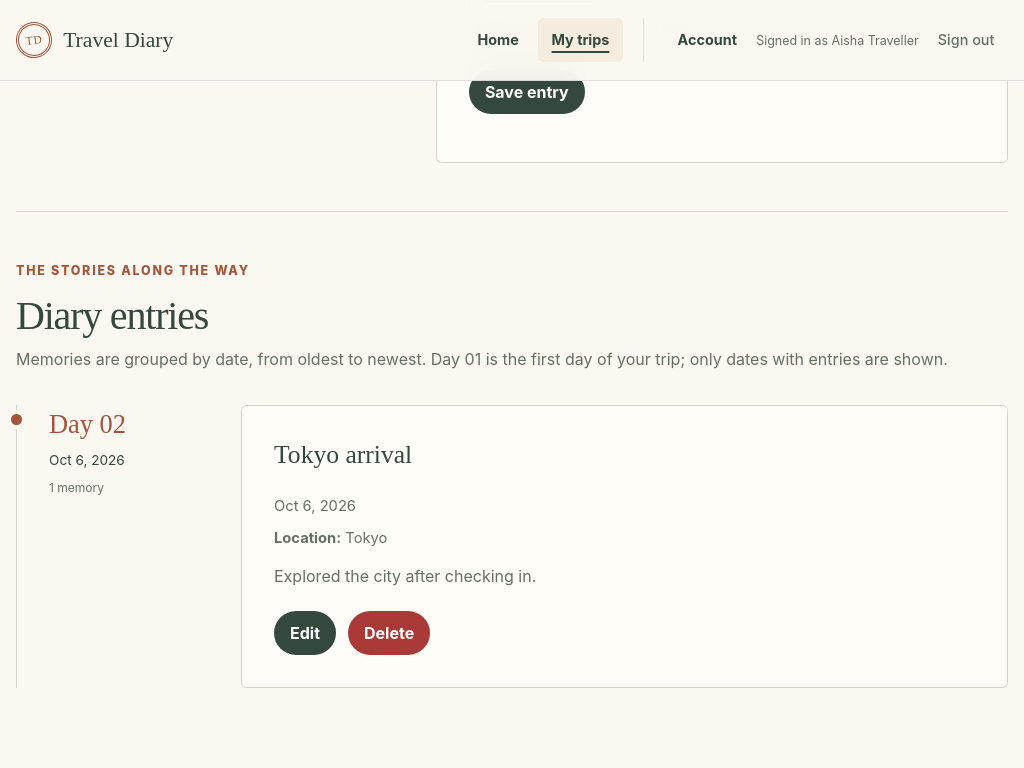
it: TripDetails owner actions › removes a deleted diary entry from the page
(page scrolled)
Click the button "Delete" at (389, 633), box [348,611,430,655]
(page scrolled)
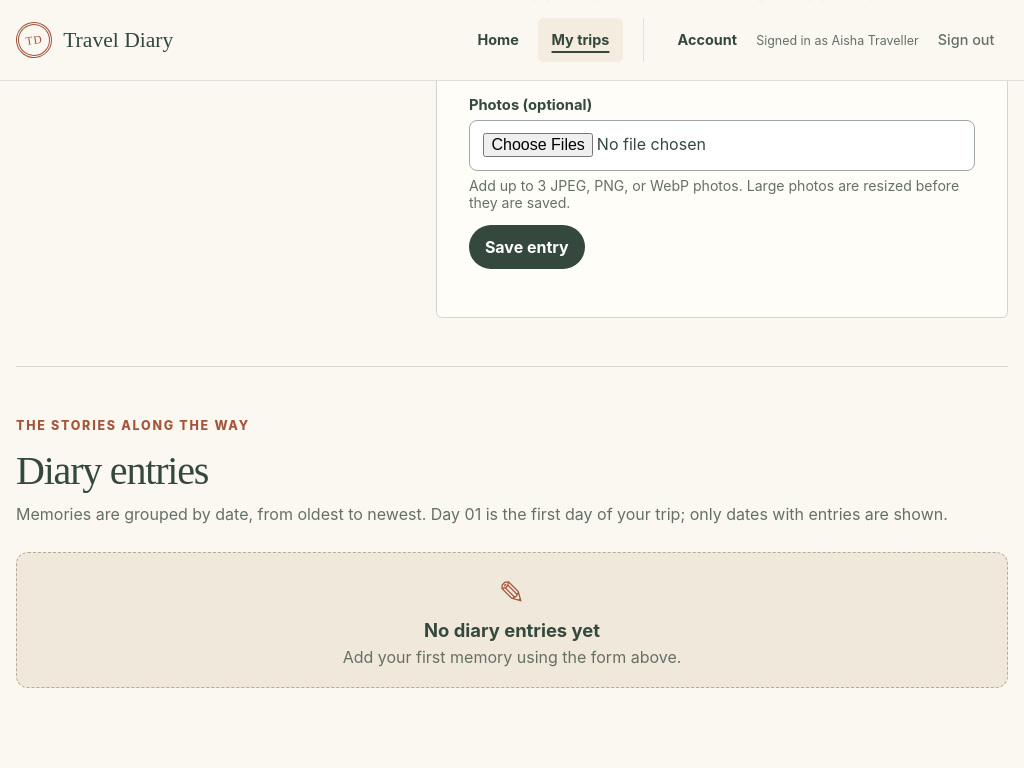
expect the heading "No diary entries yet" is shown: met, box [424,619,600,641]
